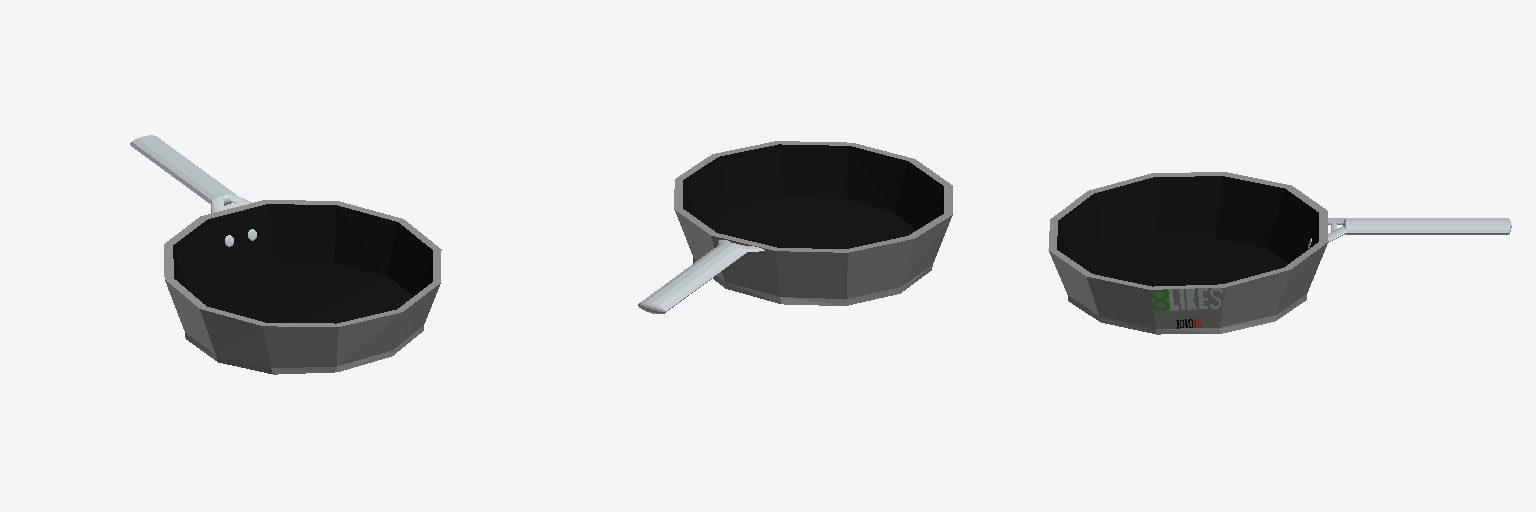
3 views of the same model, side by side, from view 1: azimuth 30°, elevation 25°; view 2: azimuth 150°, elevation 25°; view 3: azimuth 270°, elevation 25° (orthographic).
Visible parts, largest first — view 1: group[number redacted], group[number redacted], group[number redacted]; view 2: group[number redacted], group[number redacted], group[number redacted]; view 3: group[number redacted], group[number redacted], group[number redacted].
Part boxes in pixels (left/top/right/bottom): group[number redacted]: left=164, top=200, right=441, bottom=374; group[number redacted]: left=170, top=165, right=235, bottom=203; group[number redacted]: left=130, top=135, right=194, bottom=173; group[number redacted]: left=674, top=141, right=952, bottom=305; group[number redacted]: left=640, top=273, right=705, bottom=313; group[number redacted]: left=681, top=243, right=746, bottom=283; group[number redacted]: left=1048, top=172, right=1328, bottom=334; group[number redacted]: left=1346, top=218, right=1427, bottom=234; group[number redacted]: left=1427, top=218, right=1507, bottom=234.
Bounding box in the file's own units: 1.99 × 0.5642 × 3.31.